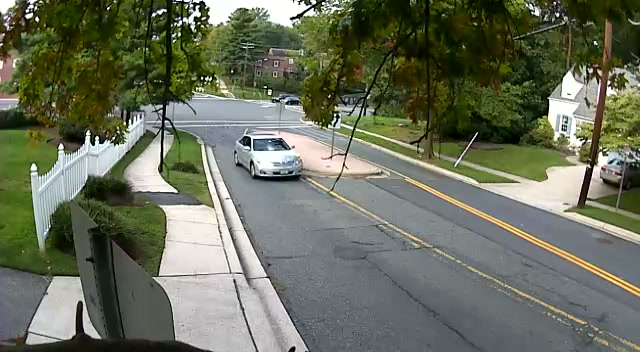car: (233, 130, 303, 179), (599, 152, 640, 189), (281, 95, 300, 105)
